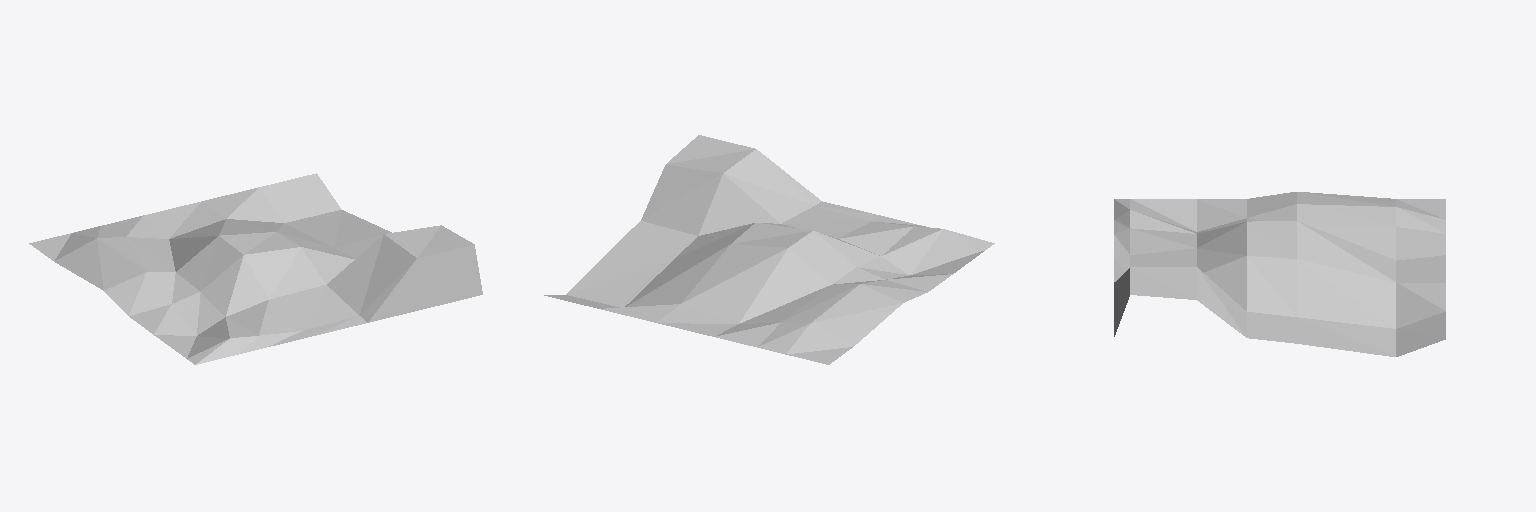
The model's file is ter2.obj.
3 renders of one model, left to right at view 1: azimuth 30°, elevation 25°; view 2: azimuth 150°, elevation 25°; view 3: azimuth 270°, elevation 25°, orthographic.
Parts seen in each view (by area): view 1: ter2; view 2: ter2; view 3: ter2.
Boxes of the visible parts, x1=… form: ter2: x1=29, y1=173, x2=482, y2=364; ter2: x1=544, y1=135, x2=994, y2=364; ter2: x1=1114, y1=192, x2=1445, y2=356.
Size of the model in its own units: 500 by 104 by 500.